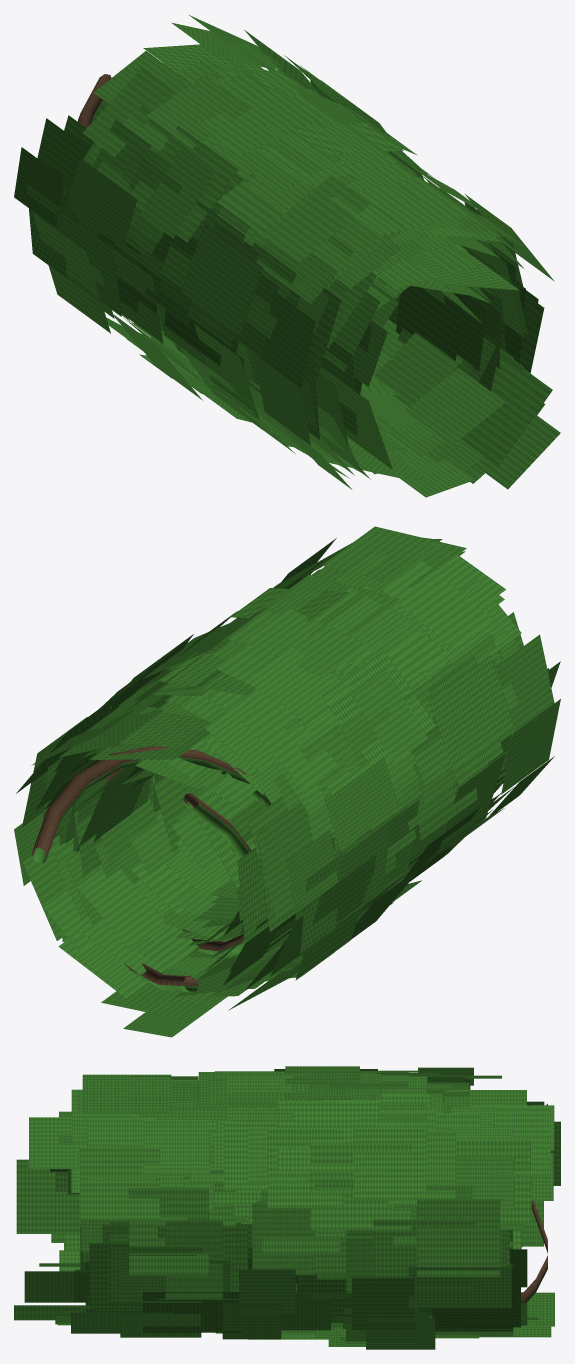
Rendered from veg_vine_pothos_01.obj.
The picture shows the model from 3 angles, top to bottom: view 1: azimuth 30°, elevation 25°; view 2: azimuth 150°, elevation 25°; view 3: azimuth 270°, elevation 25°; orthographic projection. The views are drawn at different scales.
Parts seen in each view (by area): view 1: veg_vine_pothos_01; view 2: veg_vine_pothos_01; view 3: veg_vine_pothos_01.
Part boxes in pixels (x1,y1,x2,y2): veg_vine_pothos_01: (14,15,560,497); veg_vine_pothos_01: (14,526,560,1037); veg_vine_pothos_01: (14,1066,560,1349).
Size of the model in its own units: 0.636 by 0.6226 by 1.2.
1 material, 1 textured.
